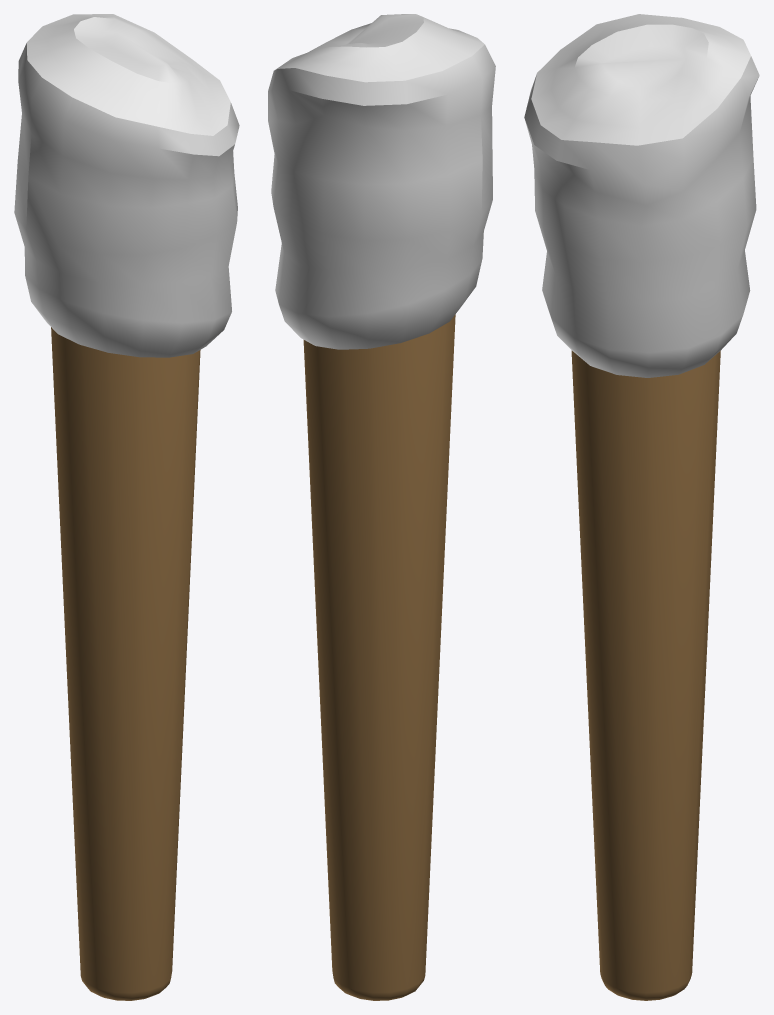
The model's file is tocha.fbx.
3 views of the same model, side by side, from view 1: azimuth 30°, elevation 25°; view 2: azimuth 150°, elevation 25°; view 3: azimuth 270°, elevation 25° (orthographic). The views are drawn at different scales.
Visible parts, largest first — view 1: madeira, tecido; view 2: madeira, tecido; view 3: madeira, tecido.
Part boxes in pixels (left/top/right/bottom): madeira: left=51, top=327, right=200, bottom=1000; tecido: left=14, top=14, right=239, bottom=357; madeira: left=303, top=314, right=455, bottom=1000; tecido: left=268, top=14, right=495, bottom=349; madeira: left=571, top=350, right=720, bottom=1000; tecido: left=524, top=14, right=759, bottom=377.
Size of the model in its own units: 95.48 by 435 by 98.21.
